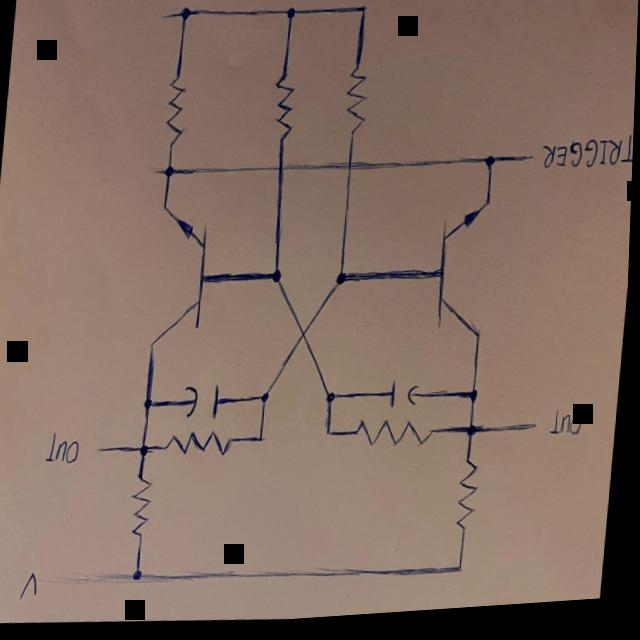capacitor: (180, 384, 229, 427), (387, 384, 426, 420)
crossover: (271, 157, 297, 189), (339, 157, 362, 186), (299, 331, 313, 350)
junction: (332, 265, 361, 302), (266, 263, 295, 299), (156, 160, 185, 194), (138, 392, 166, 421), (479, 155, 503, 185), (465, 389, 486, 419), (279, 8, 303, 33), (256, 389, 279, 415), (132, 567, 155, 592), (179, 1, 195, 33), (465, 426, 485, 450), (356, 5, 375, 30), (139, 441, 157, 466), (324, 393, 344, 415), (326, 425, 343, 450), (456, 565, 474, 587), (256, 433, 274, 453)
resistor: (356, 419, 445, 461), (269, 68, 304, 151), (158, 70, 192, 154), (166, 431, 243, 466), (342, 64, 374, 144), (458, 463, 486, 540), (130, 471, 159, 545)
terminal: (48, 567, 106, 596), (87, 438, 126, 468), (526, 424, 548, 446), (158, 8, 176, 28), (523, 157, 539, 175)
text: (541, 133, 635, 187), (550, 412, 592, 452), (48, 433, 85, 470), (23, 569, 46, 607)
transistor: (146, 203, 221, 358), (427, 201, 500, 354)
